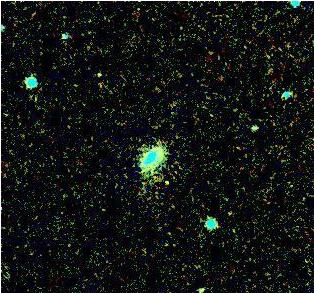star: (150, 169, 180, 199)
